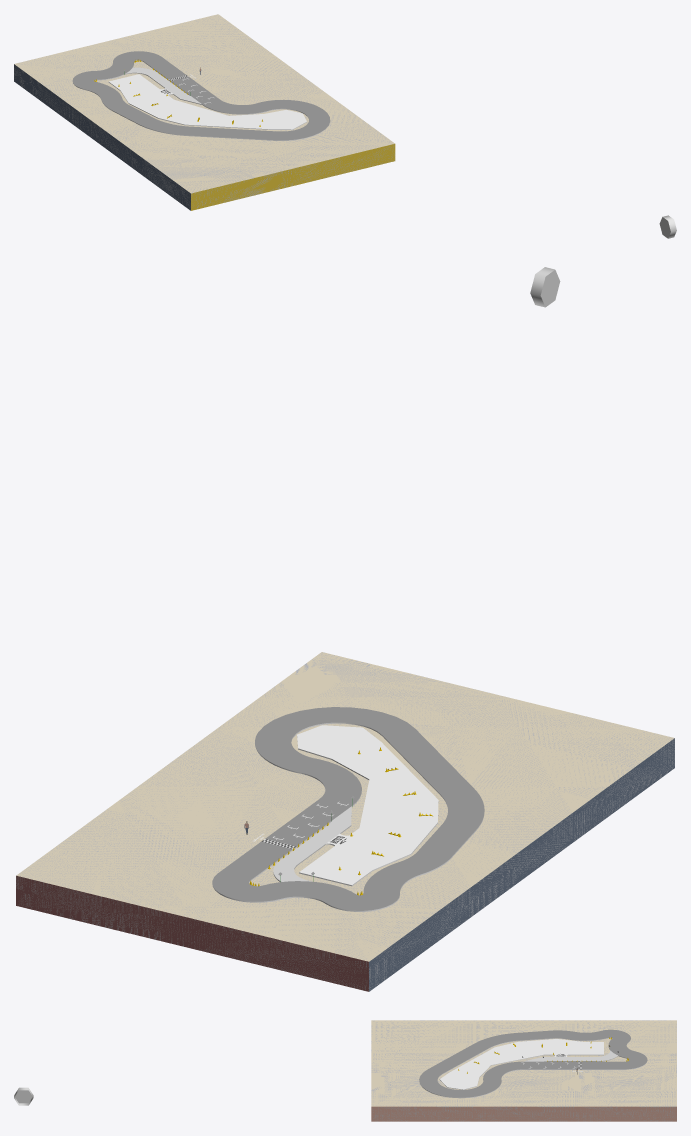
3 views of the same model, one above another, from view 1: azimuth 30°, elevation 25°; view 2: azimuth 150°, elevation 25°; view 3: azimuth 270°, elevation 25° (orthographic). The views are drawn at different scales.
Visible parts, largest first — view 1: group_1_002, instance_33_005, instance_30_005, instance_31_005, instance_32_005, staticmesh, instance_29_005, instance_34_005, instance_32_003, instance_33_003, instance_33_002, instance_29_002 (+2 smaller); view 2: group_1_002, instance_33_005, instance_30_005, instance_31_005, instance_32_005, staticmesh, instance_29_005, instance_34_005, instance_29, instance_30, instance_29_002, instance_33_002 (+2 smaller); view 3: group_1_002, instance_33_005, instance_30_005, instance_31_005, instance_32_005, staticmesh, instance_29_005, instance_34_005, instance_32_001, instance_30_001, instance_31_001, group_2 (+3 smaller).
Part boxes in pixels (left/top/right/bottom): group_1_002: left=72, top=51, right=330, bottom=140; instance_33_005: left=132, top=127, right=292, bottom=193; instance_30_005: left=116, top=14, right=276, bottom=78; instance_31_005: left=191, top=57, right=335, bottom=115; instance_32_005: left=238, top=100, right=394, bottom=168; staticmesh: left=108, top=74, right=306, bottom=129; instance_29_005: left=14, top=39, right=171, bottom=106; instance_34_005: left=73, top=83, right=225, bottom=150; instance_32_003: left=293, top=144, right=395, bottom=185; instance_33_003: left=191, top=168, right=292, bottom=210; instance_33_002: left=132, top=150, right=190, bottom=210; instance_29_002: left=14, top=64, right=72, bottom=124; group_1_002: left=212, top=707, right=484, bottom=910; instance_33_005: left=404, top=695, right=674, bottom=812; instance_30_005: left=16, top=801, right=266, bottom=918; instance_31_005: left=118, top=726, right=368, bottom=837; instance_32_005: left=220, top=652, right=497, bottom=764; staticmesh: left=297, top=725, right=438, bottom=886; instance_29_005: left=193, top=845, right=470, bottom=961; instance_34_005: left=300, top=773, right=572, bottom=886; instance_29: left=192, top=919, right=368, bottom=991; instance_30: left=16, top=875, right=192, bottom=948; instance_29_002: left=369, top=887, right=470, bottom=991; instance_33_002: left=573, top=738, right=674, bottom=842; group_1_002: left=419, top=1029, right=647, bottom=1097; instance_33_005: left=371, top=1020, right=473, bottom=1063; instance_30_005: left=575, top=1063, right=676, bottom=1106; instance_31_005: left=473, top=1063, right=574, bottom=1106; instance_32_005: left=371, top=1063, right=473, bottom=1106; staticmesh: left=439, top=1039, right=603, bottom=1089; instance_29_005: left=575, top=1020, right=676, bottom=1063; instance_34_005: left=473, top=1020, right=574, bottom=1063; instance_32_001: left=371, top=1106, right=473, bottom=1121; instance_30_001: left=575, top=1106, right=676, bottom=1121; instance_31_001: left=473, top=1106, right=574, bottom=1121; group_2: left=524, top=1050, right=618, bottom=1061.
Bounding box in the file's own units: 69.41 × 165 × 17.27.
